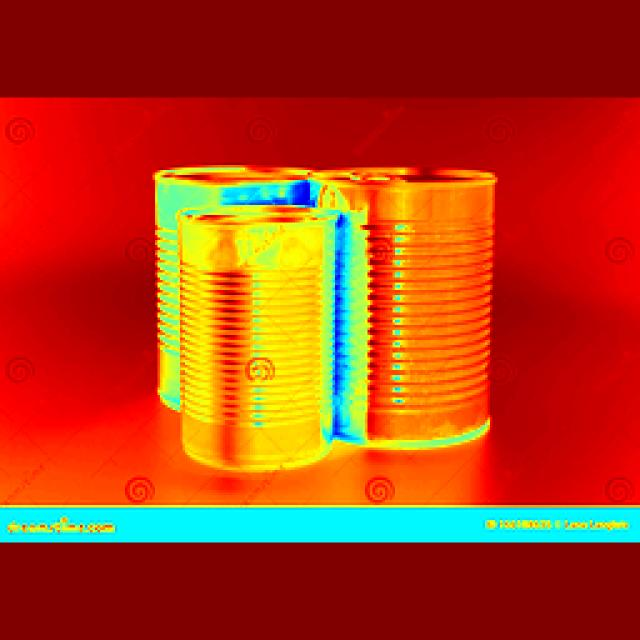Aluminium Food Cans: (330, 177, 489, 457), (183, 207, 335, 473)
